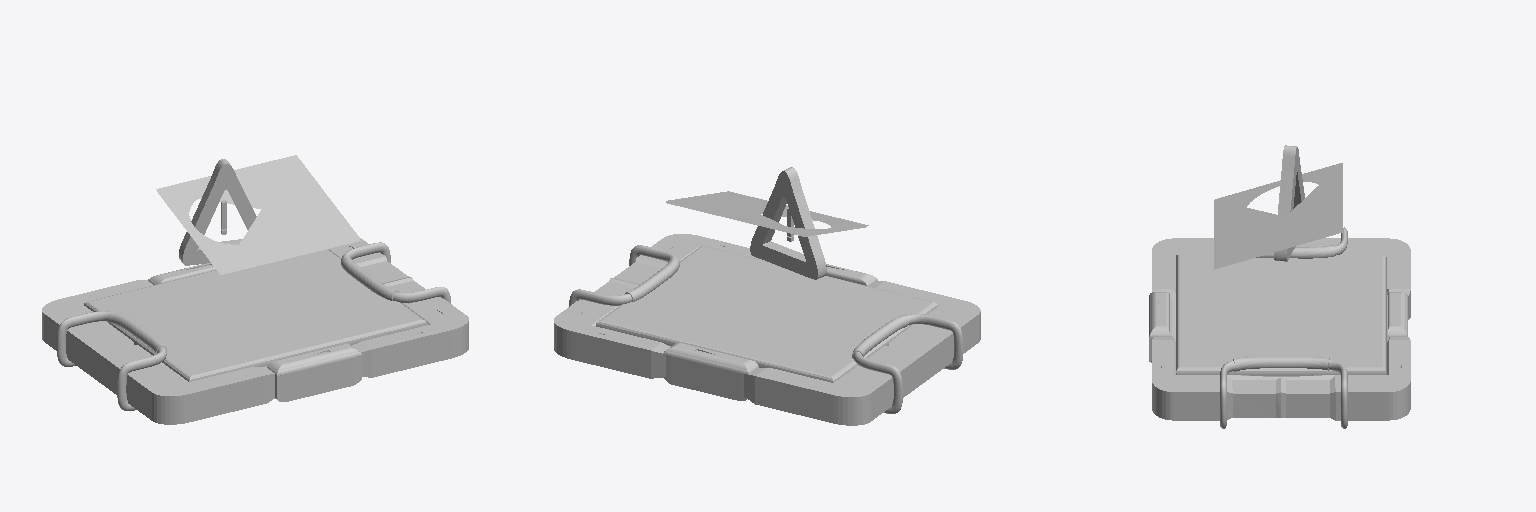
The model's file is uploads_files_2404346_tech.obj.
3 views of the same model, side by side, from view 1: azimuth 30°, elevation 25°; view 2: azimuth 150°, elevation 25°; view 3: azimuth 270°, elevation 25° (orthographic).
Visible parts, largest first — view 1: Cube.001_Cube.002, Cube, Plane.001, Plane, Cube.002_Cube.005, Cube.003_Cube.001, NurbsPath.001_CUNurbsPath.001, NurbsPath_CUNurbsPath; view 2: Cube, Cube.001_Cube.002, Plane, Cube.002_Cube.005, Cube.003_Cube.001, Plane.001, NurbsPath.001_CUNurbsPath.001, NurbsPath_CUNurbsPath; view 3: Cube.001_Cube.002, Cube, Plane.001, Plane, NurbsPath_CUNurbsPath, Cube.002_Cube.005, Cube.003_Cube.001, NurbsPath.001_CUNurbsPath.001.
Part boxes in pixels (x1,y1,x2,y2): Cube.001_Cube.002: (84, 249, 426, 381); Cube: (42, 238, 468, 424); Plane.001: (156, 155, 359, 272); Plane: (105, 256, 399, 365); Cube.002_Cube.005: (148, 263, 361, 401); Cube.003_Cube.001: (179, 159, 256, 265); NurbsPath.001_CUNurbsPath.001: (57, 311, 166, 410); NurbsPath_CUNurbsPath: (341, 242, 450, 303); Cube: (554, 234, 980, 425); Cube.001_Cube.002: (596, 246, 938, 382); Plane: (617, 250, 911, 368); Cube.002_Cube.005: (663, 264, 877, 400); Cube.003_Cube.001: (750, 167, 826, 279); Plane.001: (666, 191, 868, 234); NurbsPath.001_CUNurbsPath.001: (852, 314, 962, 413); NurbsPath_CUNurbsPath: (569, 245, 679, 306); Cube.001_Cube.002: (1176, 255, 1386, 375); Cube: (1152, 238, 1410, 420); Plane.001: (1214, 163, 1342, 267); Plane: (1188, 258, 1379, 357); NurbsPath_CUNurbsPath: (1220, 357, 1347, 428); Cube.002_Cube.005: (1149, 292, 1407, 362); Cube.003_Cube.001: (1274, 145, 1304, 261); NurbsPath.001_CUNurbsPath.001: (1256, 227, 1347, 258).
Bounding box in the file's own units: 18.66 × 10.37 × 12.69.